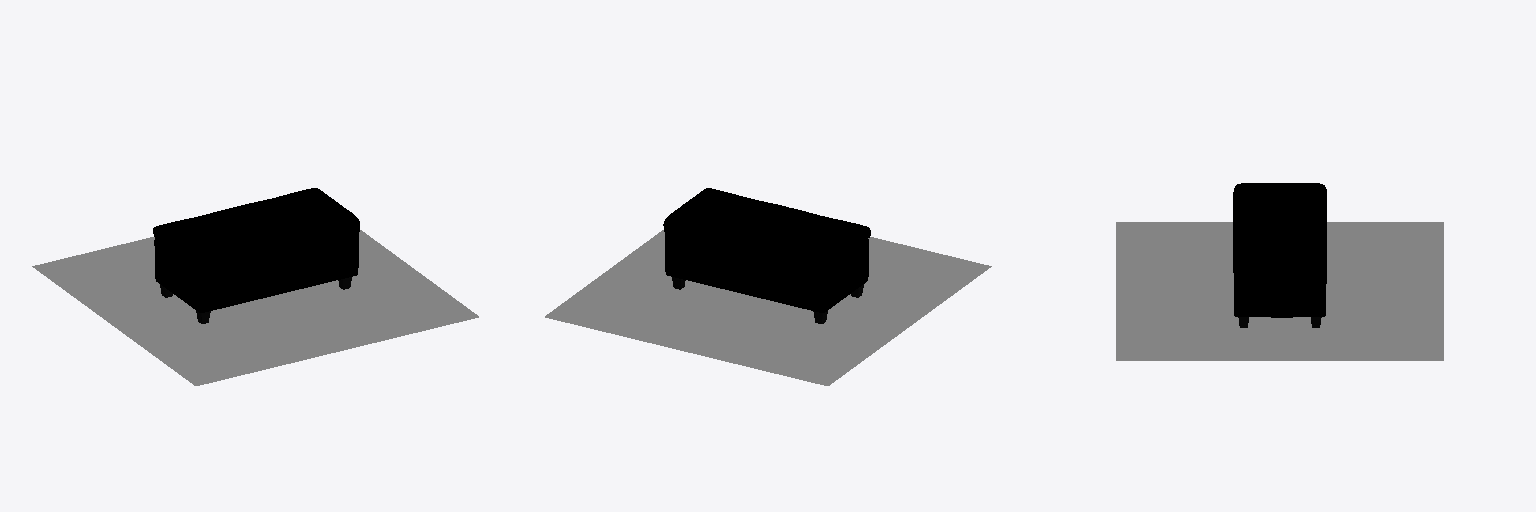
File: LATR4418.obj
3 renders of one model, left to right at view 1: azimuth 30°, elevation 25°; view 2: azimuth 150°, elevation 25°; view 3: azimuth 270°, elevation 25°, orthographic.
Visible parts, largest first — view 1: shadow_plane_v6, not_clear_obj_0_v6; view 2: shadow_plane_v6, not_clear_obj_0_v6; view 3: shadow_plane_v6, not_clear_obj_0_v6.
Part boxes in pixels (x1,y1,x2,y2): shadow_plane_v6: (32, 230, 478, 385); not_clear_obj_0_v6: (153, 188, 359, 312); shadow_plane_v6: (545, 230, 991, 385); not_clear_obj_0_v6: (663, 188, 870, 312); shadow_plane_v6: (1116, 222, 1443, 360); not_clear_obj_0_v6: (1233, 183, 1326, 317).
Size of the model in its own units: 169 by 40.64 by 169.